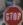Stop sign: (0, 0, 22, 24)
